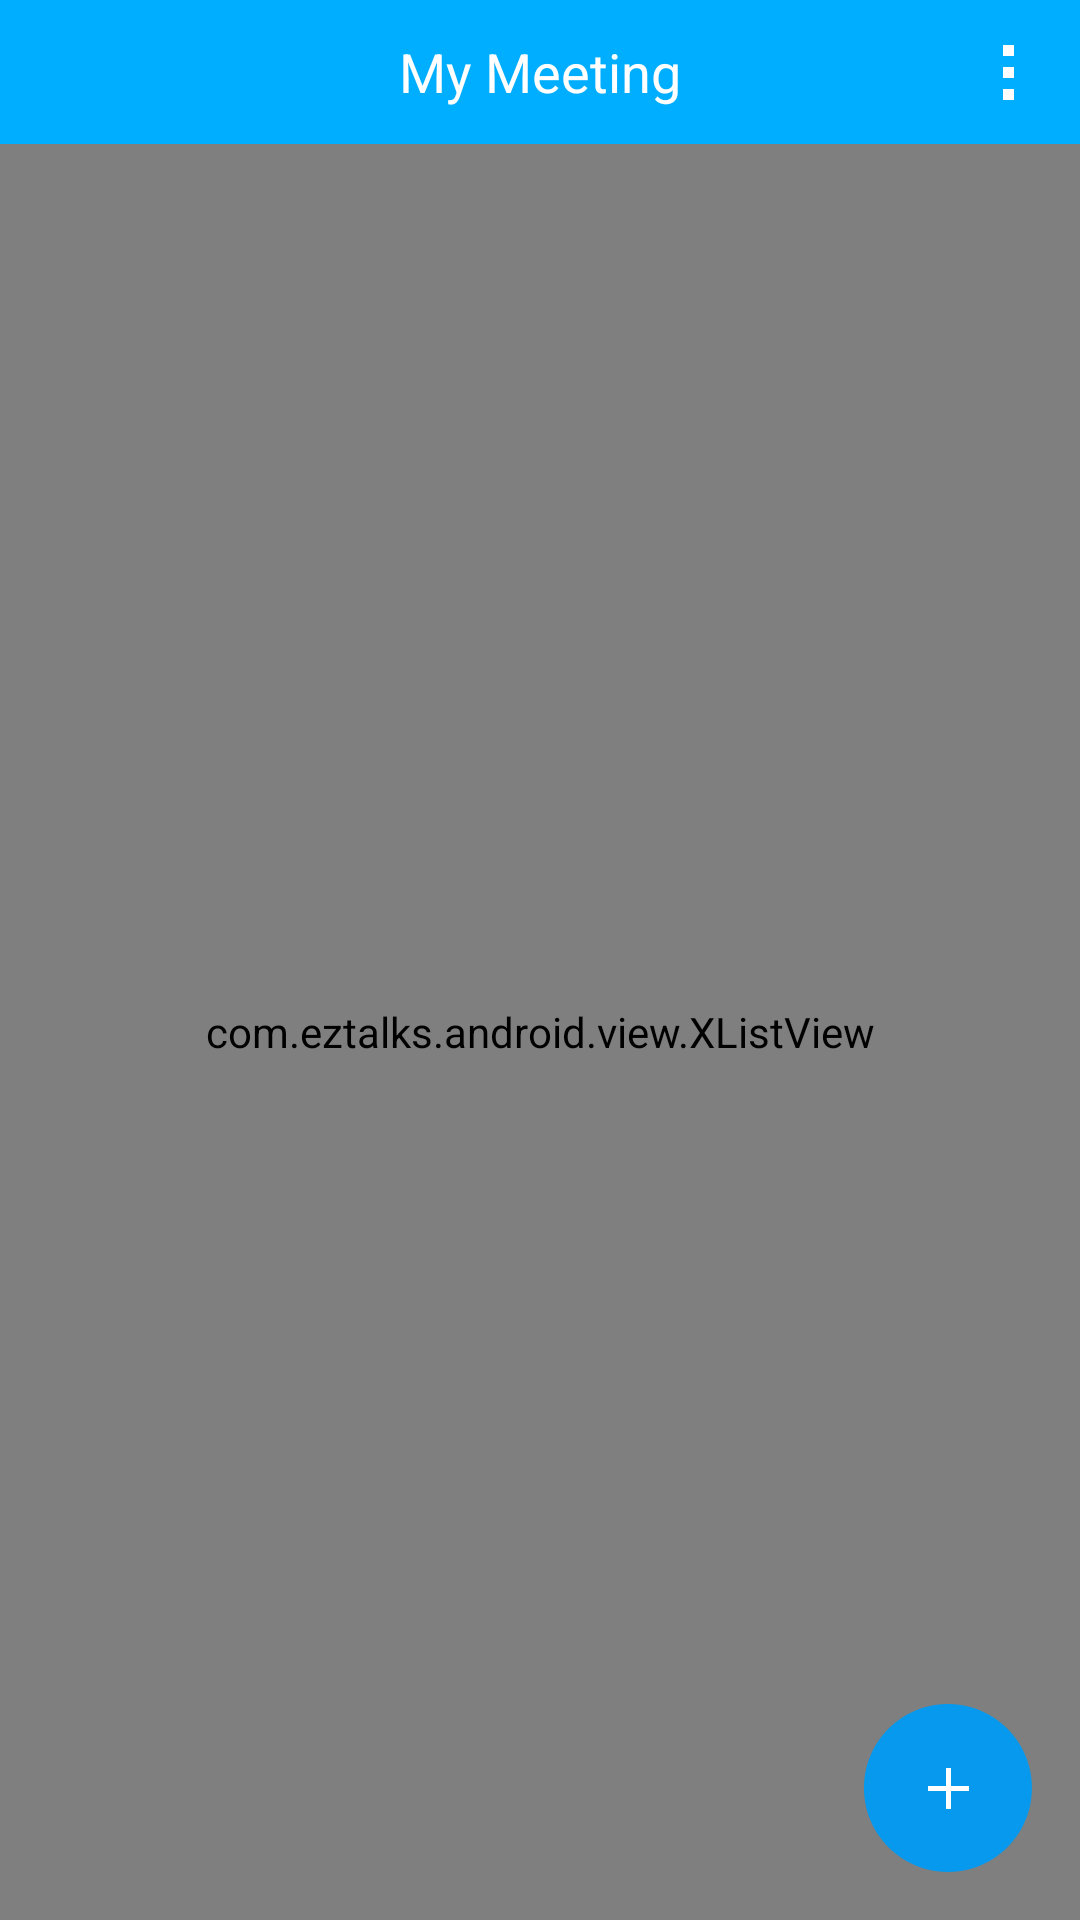

Icons on this 1080 × 1920 Android screen, each with its box as {"x1": x1, "y1": y1, "x2": x2, "y2": y2}:
meetinglist float: {"x1": 864, "y1": 1704, "x2": 1032, "y2": 1872}
meetinglist more: {"x1": 1003, "y1": 45, "x2": 1014, "y2": 100}
